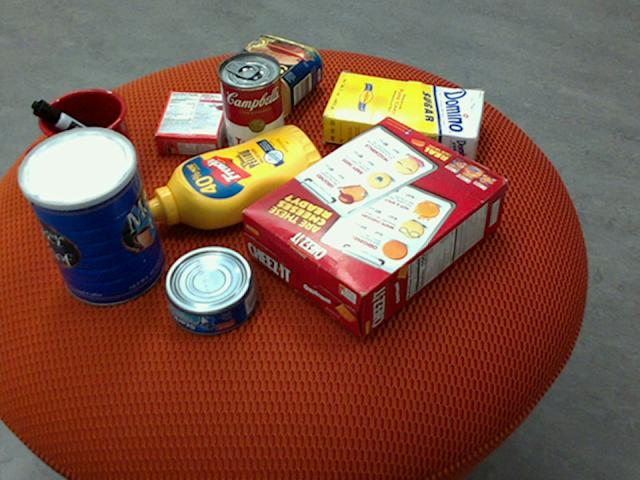cracker_box: (242, 115, 509, 337)
gelatin_box: (154, 90, 232, 154)
large_marker: (31, 100, 133, 168)
master_chef_can: (15, 127, 165, 306)
mug: (30, 88, 136, 193)
mustard_bottle: (139, 124, 327, 229)
potted_meat_can: (218, 35, 323, 118)
sugar_box: (322, 72, 486, 161)
tomato_soup_can: (218, 50, 284, 160)
tuna_fish_can: (164, 247, 258, 336)
